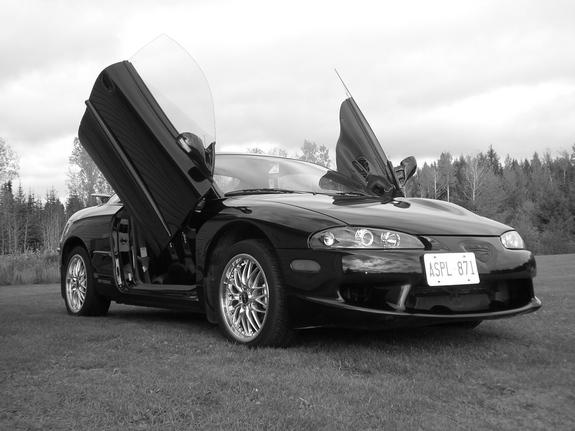car: (59, 60, 542, 346)
